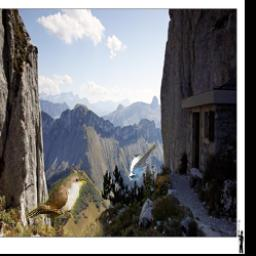Cuckoo: (25, 173, 86, 218)
Swallow: (129, 143, 158, 180)
